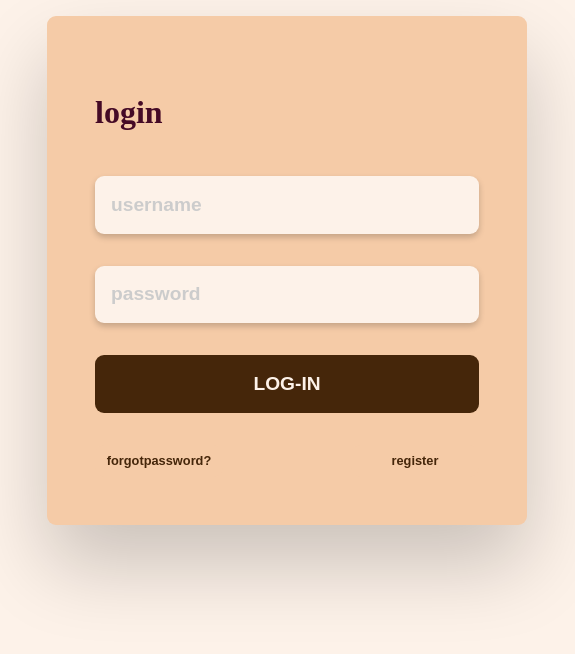
Scenario: renders login component › shows error massages on empty form submition
The width and height of the screenshot is (575, 654).
Expected: the field with placeholder "username" is shown, [95,176,479,234]
Expected: the password field with placeholder "password" is shown, [95,266,479,323]
Click the button "log-in": [287, 384] box [95,355,479,413]
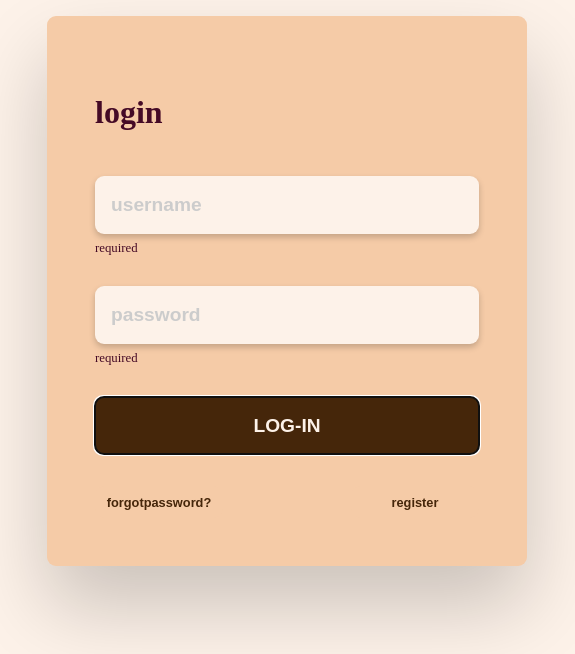
Expected: the text "required" is shown 2 times, [95,241,138,255]; [95,351,138,365]
